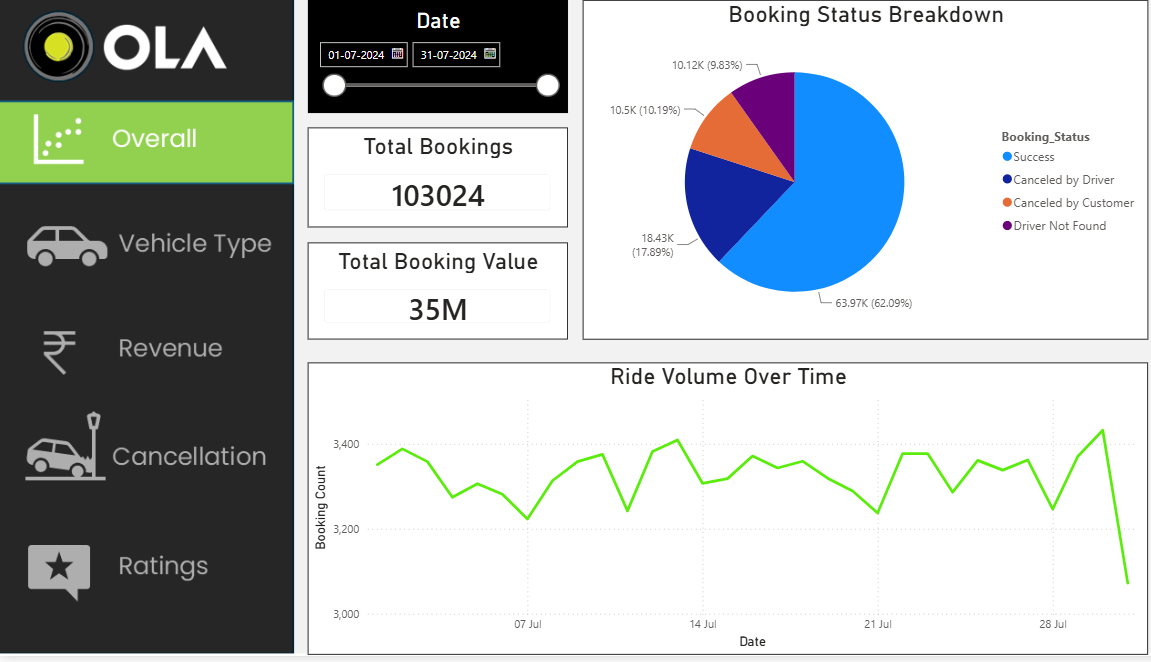

What the dashboard file says about the page in this screenshot:
{"tool":"powerbi","page":{"name":"Overall","canvas":[1280,720],"ordinal":0},"visuals":[{"type":"actionButton","box":[0,222,323.3,86.9],"z":0},{"type":"actionButton","box":[0,340,322.4,87.1],"z":1000},{"type":"actionButton","box":[1.2,445.9,322.4,96.5],"z":2000},{"type":"actionButton","box":[0,580,322.4,96.5],"z":3000},{"type":"lineChart","title":"Ride Volume Over Time","fields":{"Category":["July.Date"],"Y":["CountNonNull(July.Booking_ID)"]},"box":[338.7,398.4,922.6,321],"z":4000},{"type":"pieChart","title":"Booking Status Breakdown","fields":{"Y":["CountNonNull(July.Booking_Status)"],"Category":["July.Booking_Status"]},"box":[640.3,0,621,372.6],"z":5000},{"type":"slicer","title":"Date","fields":{"Values":["July.Date"]},"box":[338.7,0,285.5,124.2],"z":6000},{"type":"cardVisual","title":"Total Bookings","fields":{"Data":["July.Total Bokings"]},"box":[338.7,140.3,285.5,109.7],"z":7000},{"type":"cardVisual","title":"Total Booking Value","fields":{"Data":["Sum(July.Booking_Value)"]},"box":[338.7,266.1,285.5,106.5],"z":8000}]}

Visuals, with their boxes in screenshot pixels (x1, y1, x2, y2), scaled from the page's 1280x720 canvas onto the 1151x662 screenshot:
actionButton: l=0, t=204, r=291, b=284
actionButton: l=0, t=313, r=290, b=393
actionButton: l=1, t=410, r=291, b=499
actionButton: l=0, t=533, r=290, b=622
"Ride Volume Over Time" lineChart: l=305, t=366, r=1134, b=661
"Booking Status Breakdown" pieChart: l=576, t=0, r=1134, b=343
"Date" slicer: l=305, t=0, r=561, b=114
"Total Bookings" cardVisual: l=305, t=129, r=561, b=230
"Total Booking Value" cardVisual: l=305, t=245, r=561, b=343
